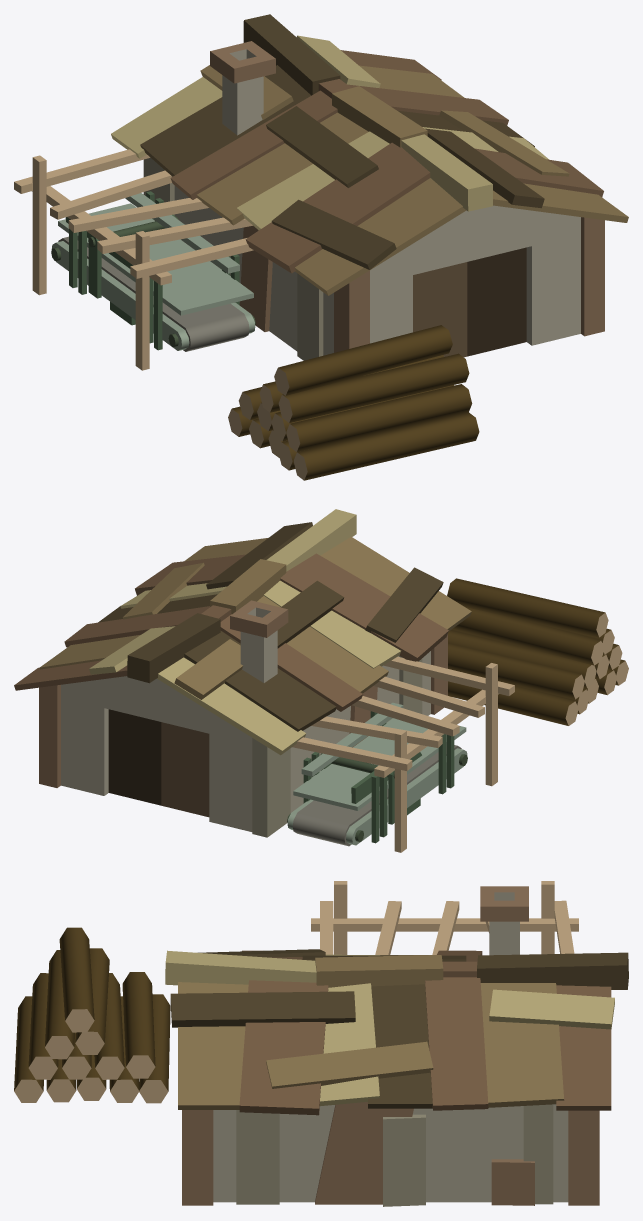
Rendered from Building_mode_L1_Sawmill001.fbx.
3 renders of one model, top to bottom at view 1: azimuth 30°, elevation 25°; view 2: azimuth 150°, elevation 25°; view 3: azimuth 270°, elevation 25°, orthographic. The views are drawn at different scales.
Visible parts, largest first — view 1: Building_mode_L1_Sawmill001; view 2: Building_mode_L1_Sawmill001; view 3: Building_mode_L1_Sawmill001.
Boxes of the visible parts, x1,y1,x2,y2 form: Building_mode_L1_Sawmill001: [14, 14, 628, 480]; Building_mode_L1_Sawmill001: [14, 509, 628, 852]; Building_mode_L1_Sawmill001: [14, 881, 628, 1206].
Bounding box in the file's own units: 6.4 × 2.96 × 7.86.
